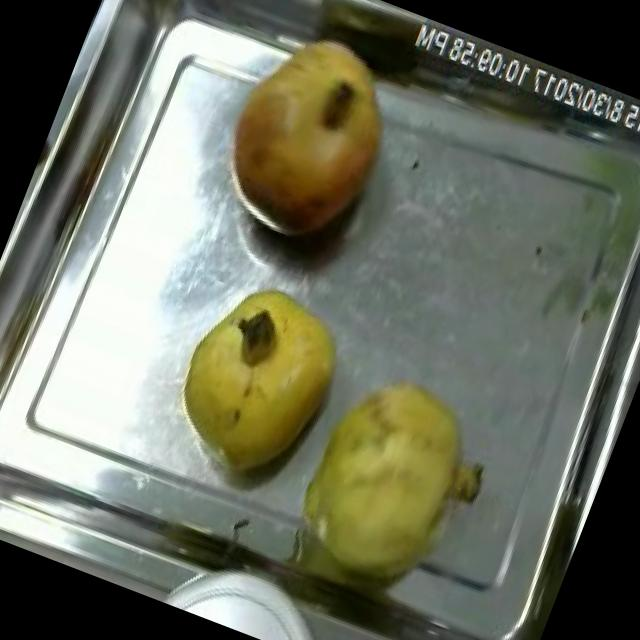fruit: (264, 337, 536, 633), (192, 7, 422, 270), (148, 258, 366, 504)
